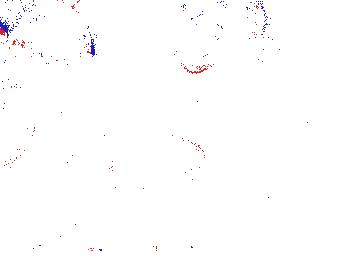moon jellyfish: (171, 1, 266, 75), (108, 136, 207, 198), (6, 2, 93, 64), (1, 82, 36, 167)
